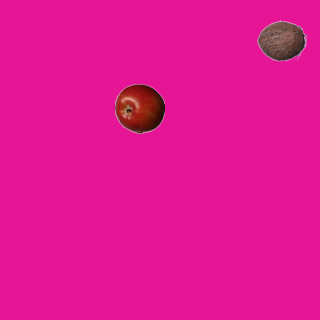Apple Braeburn: (114, 83, 164, 133)
Cocos: (256, 15, 306, 65)
